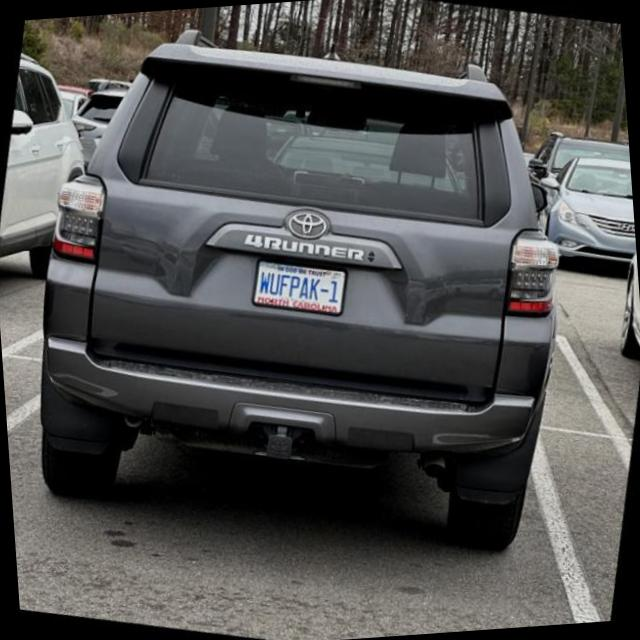LicensePlate: (250, 258, 350, 317)
